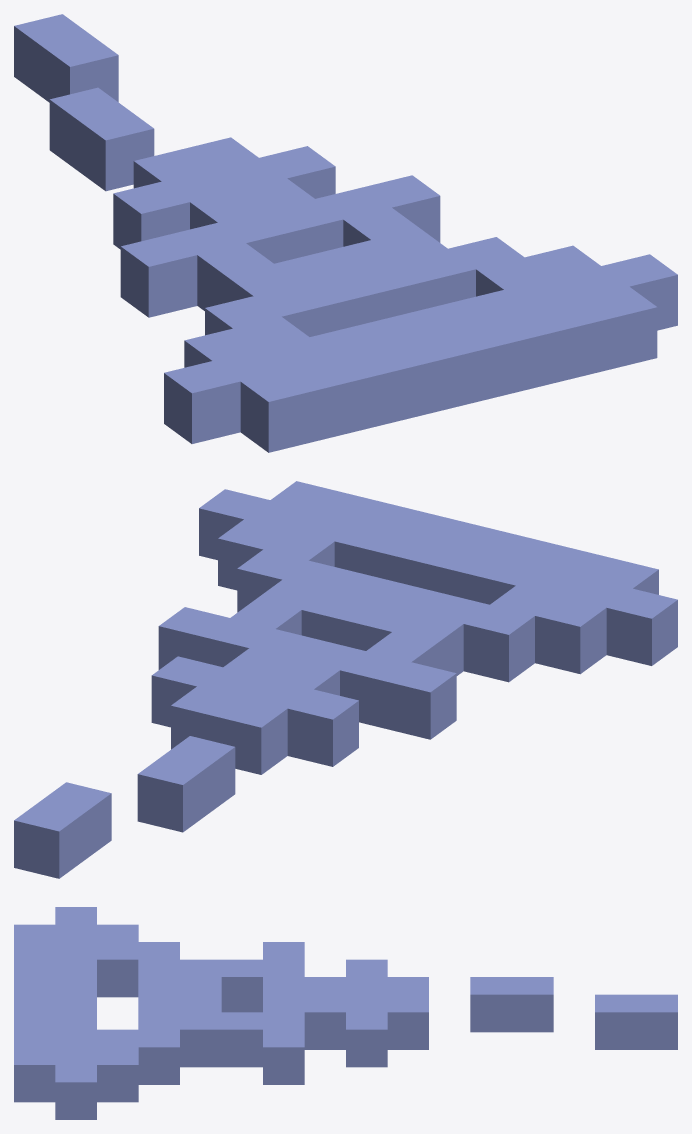
The model's file is turret.fbx.
The picture shows the model from 3 angles, top to bottom: view 1: azimuth 30°, elevation 25°; view 2: azimuth 150°, elevation 25°; view 3: azimuth 270°, elevation 25°; orthographic projection. The views are drawn at different scales.
Parts seen in each view (by area): view 1: turret; view 2: turret; view 3: turret.
Boxes of the visible parts, left/top/right/bottom form: turret: left=14, top=14, right=677, bottom=452; turret: left=14, top=481, right=677, bottom=878; turret: left=14, top=907, right=677, bottom=1119.
Bounding box in the file's own units: 5 × 0.5 × 8.
